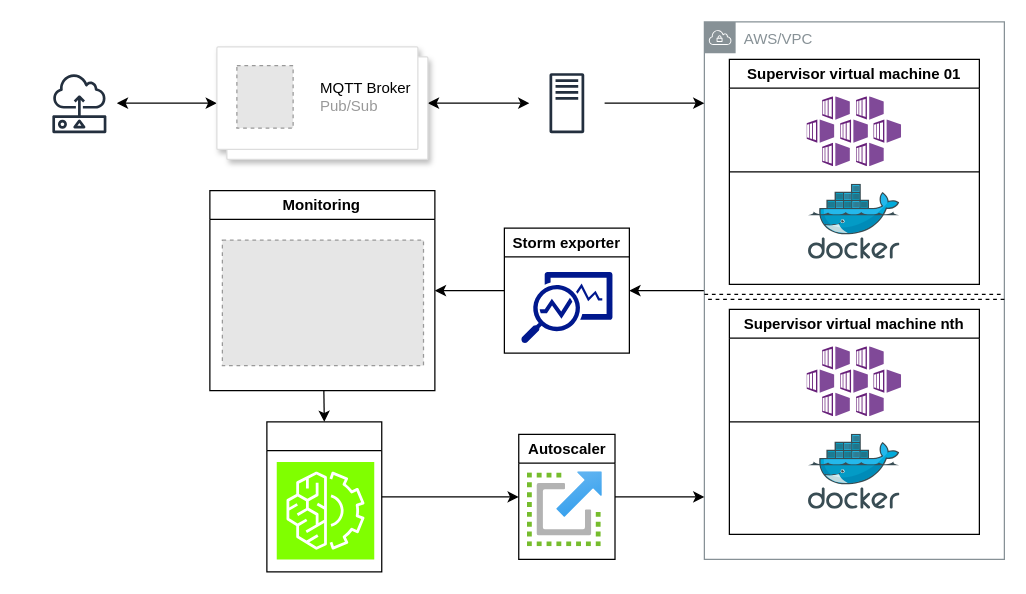
Some shapes in this 1026 by 594 pixel diagram are drawn without their labels. Grey dashed boxes stand in for pictures. Each missing label, with the centre of its shape:
"Forecast" goes at point 324,496.
"MQTT Publishers" goes at point 79,102.
"Nimbus" goes at point 566,102.
